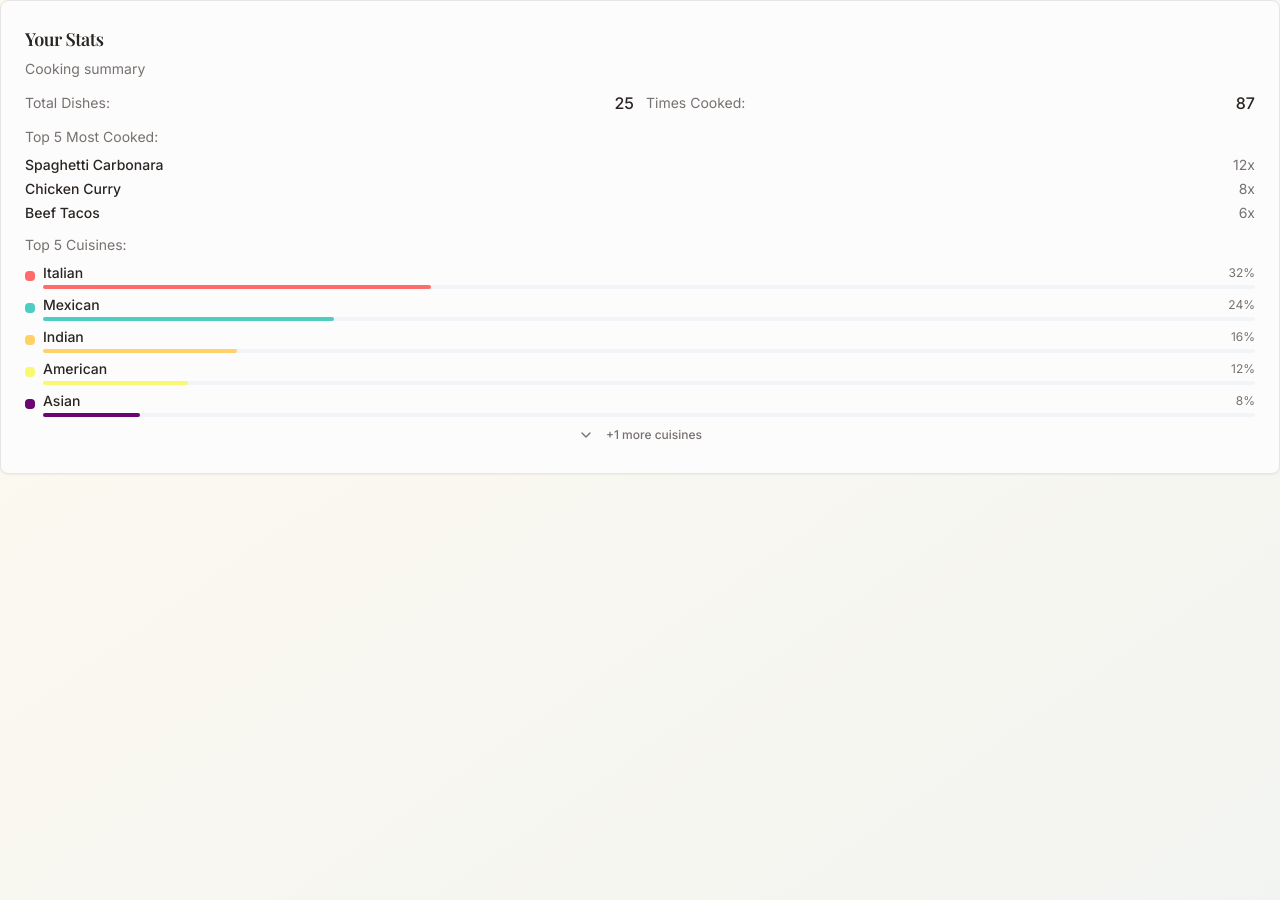
Test case: StatsCard › should show expand/collapse for more cuisines
The width and height of the screenshot is (1280, 900).
Note: Click to expand
Click the button "+1 more cuisines" at (640, 435), box [25,423,1255,447]
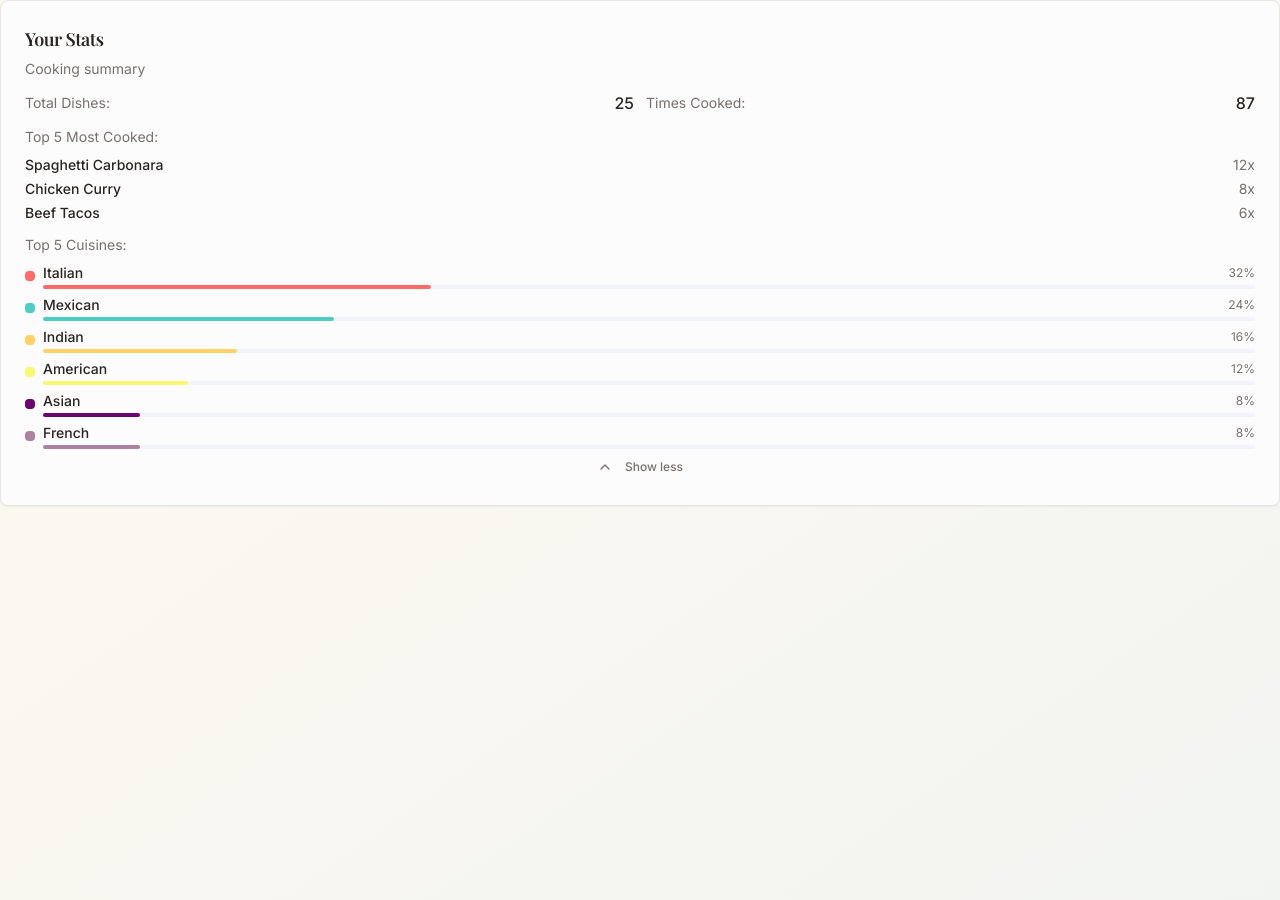
Check: the button "Show less" is shown, box [25,455,1255,479]
Check: the button "French" is shown, box [43,423,89,443]
